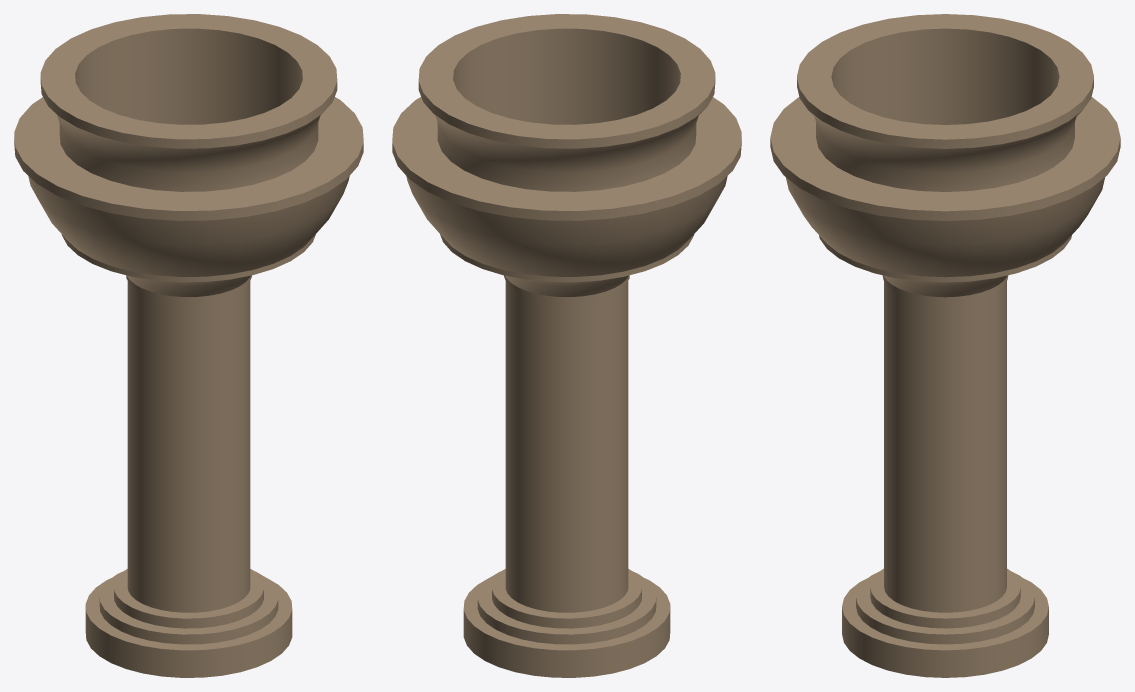
File: sconce.glb
3 renders of one model, left to right at view 1: azimuth 30°, elevation 25°; view 2: azimuth 150°, elevation 25°; view 3: azimuth 270°, elevation 25°, orthographic.
Visible parts, largest first — view 1: Circle; view 2: Circle; view 3: Circle.
Boxes of the visible parts, bbox=[...] form: Circle: bbox=[14, 14, 363, 677]; Circle: bbox=[392, 14, 741, 677]; Circle: bbox=[770, 14, 1120, 677].
Bounding box in the file's own units: 0.6807 × 1.2 × 0.6807.
